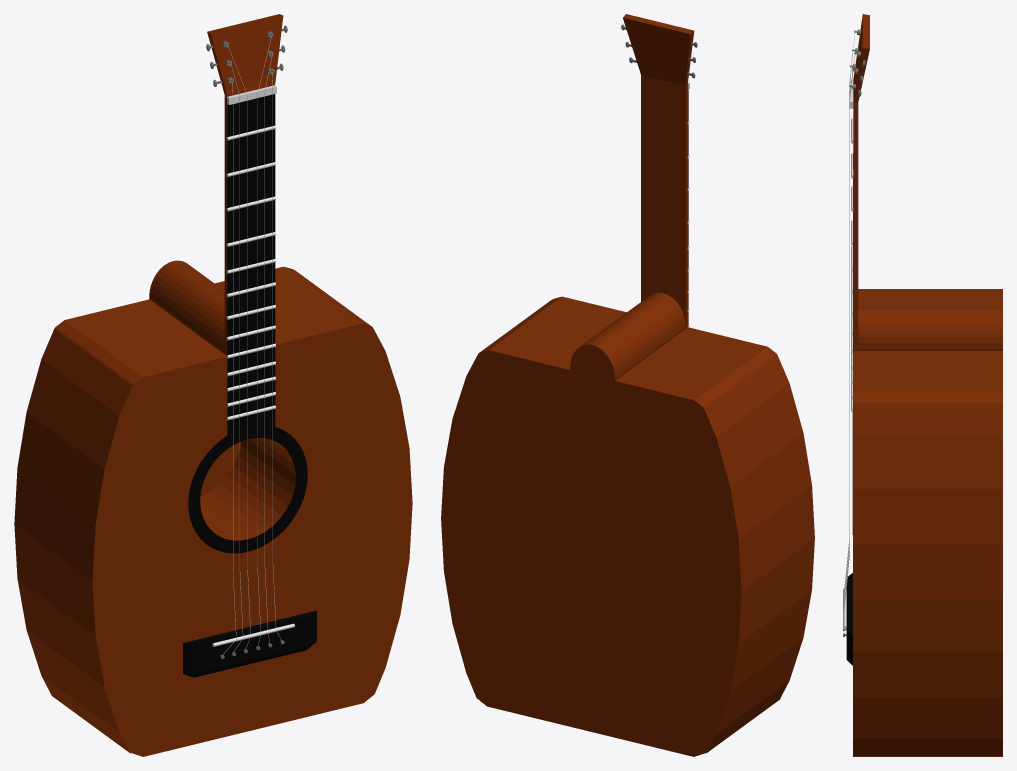
File: Guitare.fbx
The picture shows the model from 3 angles, left to right: view 1: azimuth 30°, elevation 25°; view 2: azimuth 150°, elevation 25°; view 3: azimuth 270°, elevation 25°; orthographic projection. The views are drawn at different scales.
Parts seen in each view (by area): view 1: Cylinder.066; view 2: Cylinder.066; view 3: Cylinder.066.
Part boxes in pixels (left/top/right/bottom): Cylinder.066: left=14, top=14, right=412, bottom=756; Cylinder.066: left=441, top=14, right=814, bottom=756; Cylinder.066: left=843, top=14, right=1002, bottom=756.
Size of the model in its own units: 194 by 407 by 87.48.
